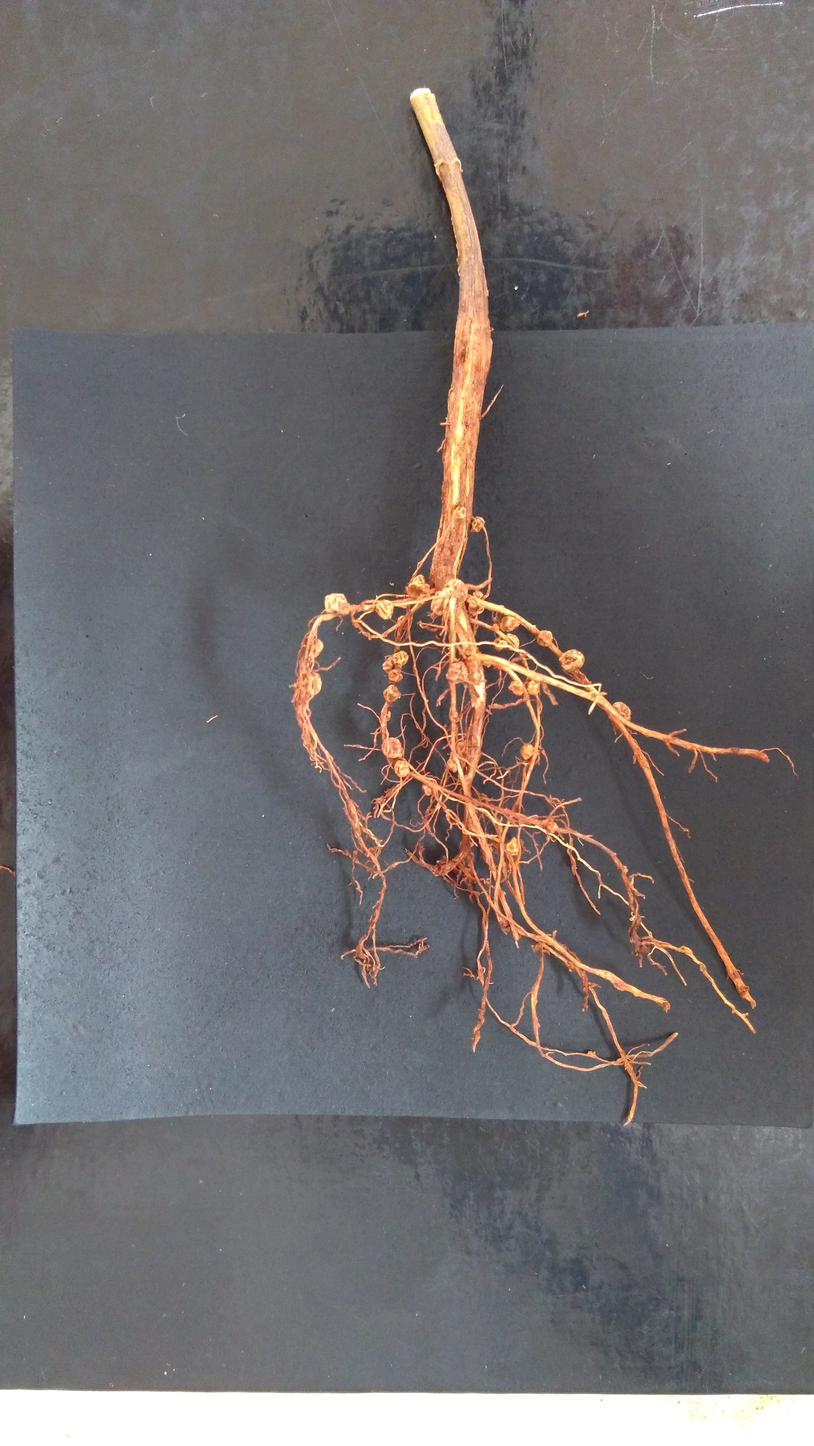nodule: (406, 574, 431, 603), (442, 578, 468, 605), (559, 649, 585, 673), (324, 593, 351, 615), (493, 633, 520, 652), (381, 738, 404, 760), (430, 591, 450, 616), (445, 661, 467, 683), (301, 672, 322, 695), (446, 748, 466, 772), (466, 660, 483, 685), (520, 743, 540, 764), (611, 701, 631, 721), (375, 599, 394, 620), (466, 596, 485, 617), (461, 813, 477, 837), (499, 616, 520, 632), (383, 684, 400, 703), (309, 638, 324, 659), (393, 760, 410, 778), (422, 777, 438, 796), (536, 630, 553, 647), (542, 818, 559, 834), (524, 679, 540, 696), (455, 740, 470, 758), (508, 680, 524, 696), (392, 651, 409, 666), (505, 837, 519, 855), (471, 516, 485, 532), (397, 615, 412, 629), (388, 669, 404, 682), (382, 656, 394, 673), (452, 506, 466, 519), (380, 711, 391, 721), (472, 590, 484, 599), (491, 623, 500, 632), (429, 612, 437, 620), (469, 841, 475, 848), (436, 860, 439, 863)
